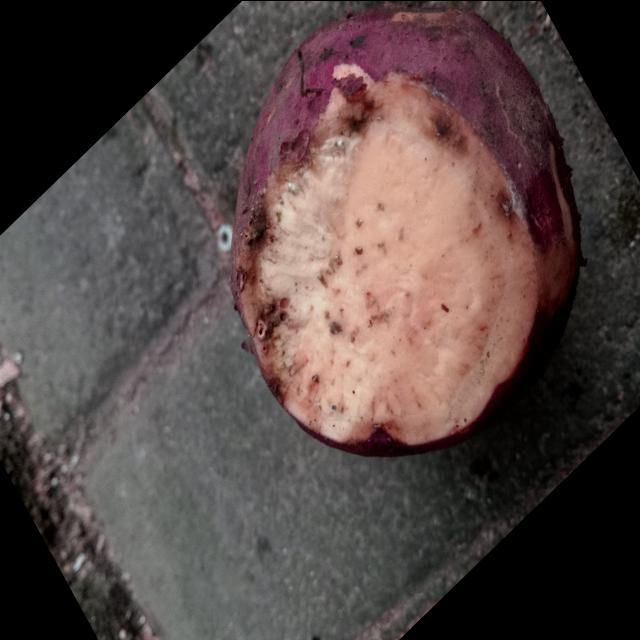Sick Sweet Potato_Tuber Rot: (234, 73, 538, 452)
